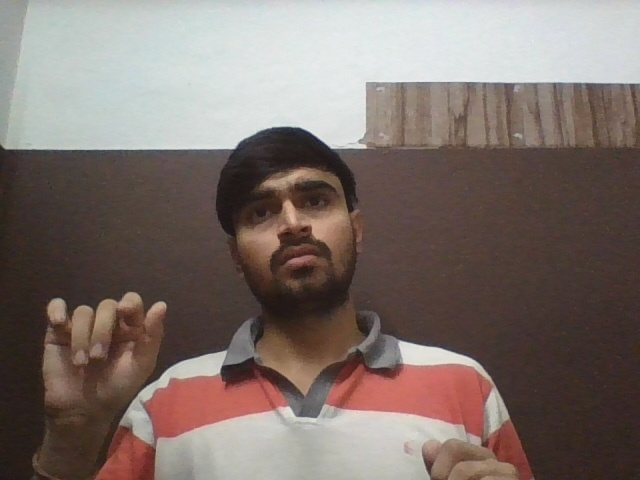I Love You: (38, 289, 169, 413)
